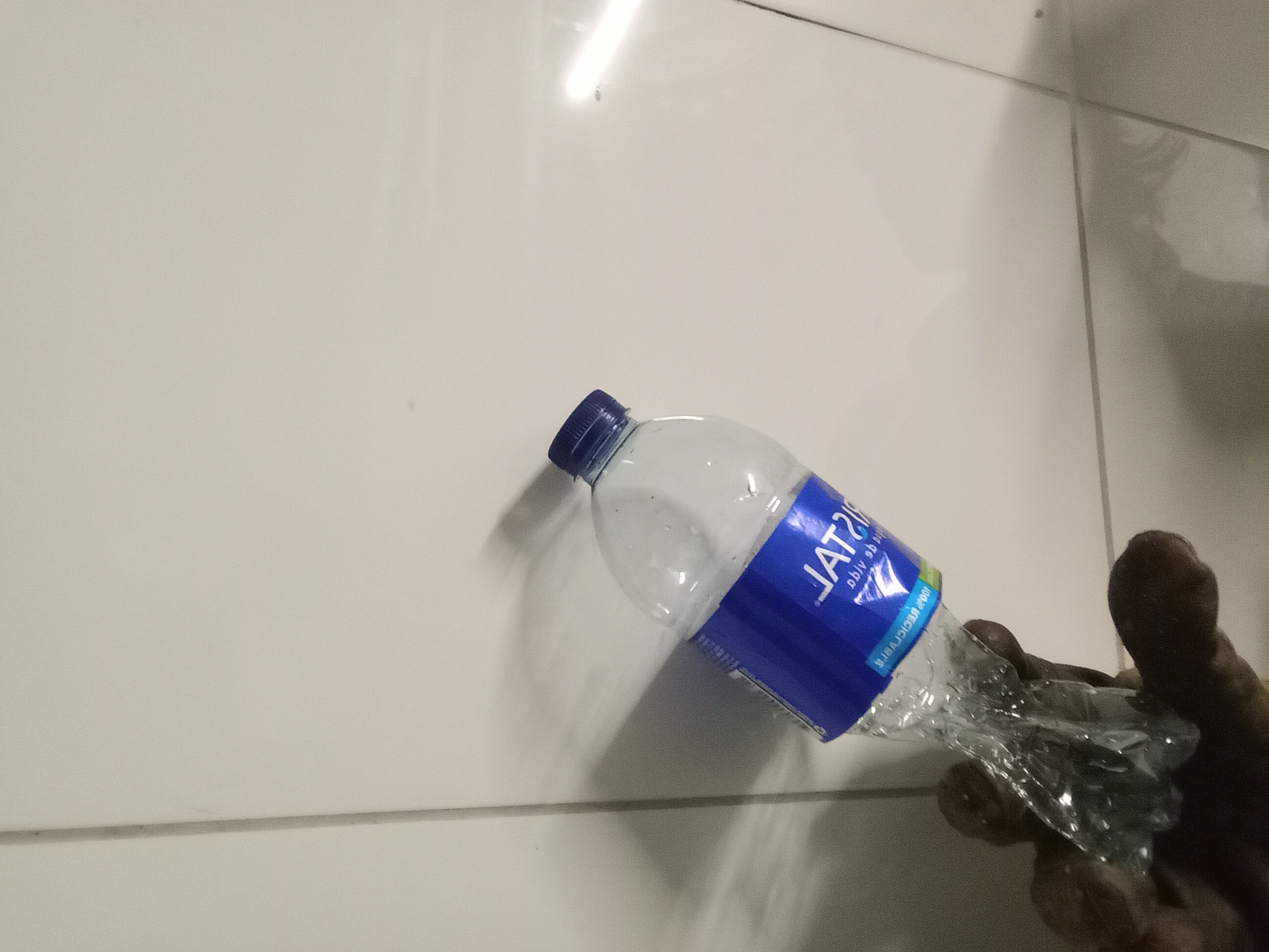Plastico: (548, 390, 1197, 880)
